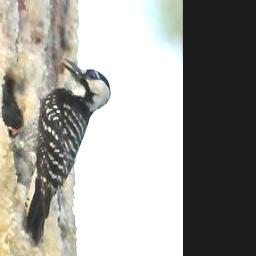Woodpecker: (8, 57, 113, 246)
